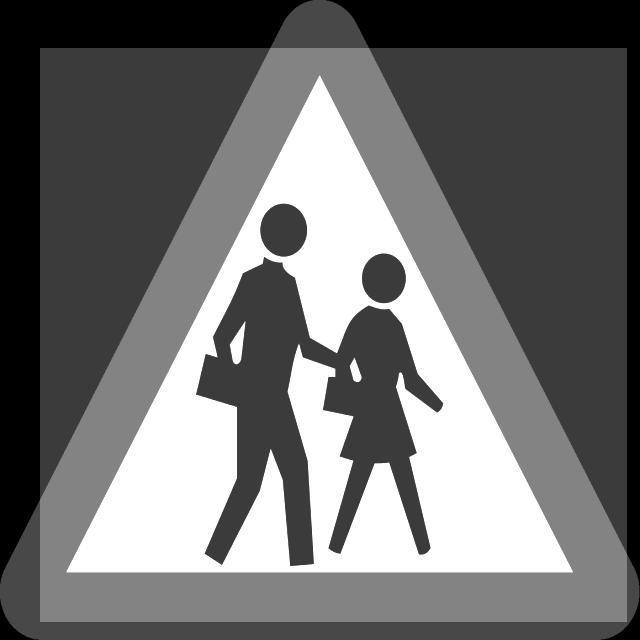school ahead: (27, 29, 607, 617)
